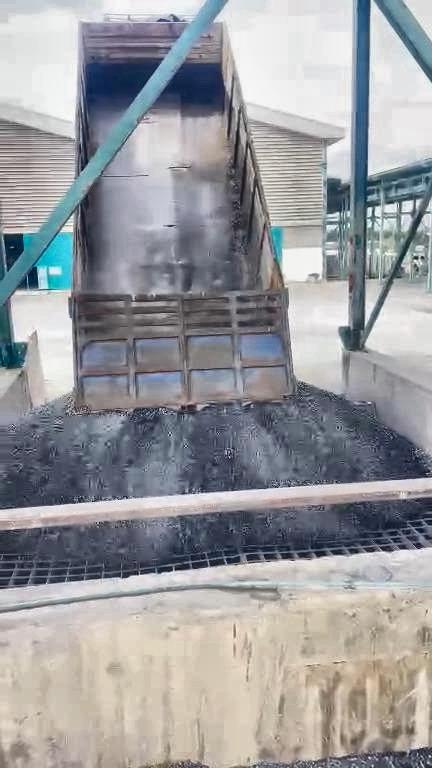gravel: (1, 384, 428, 508), (1, 501, 432, 561), (258, 748, 432, 767)
